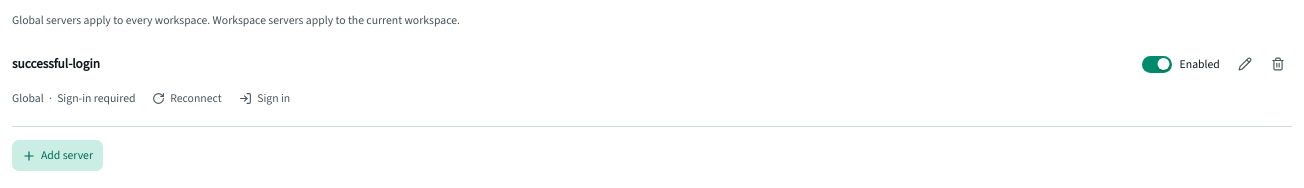
Test: McpSettingsPanel OAuth and stale responses › closes the sign-in panel on start success before refreshing connection status
This screenshot has width=1304, height=188.
Click the button "Sign in" at (265, 99), box [232,85,297,113]
Wait 1000 ms
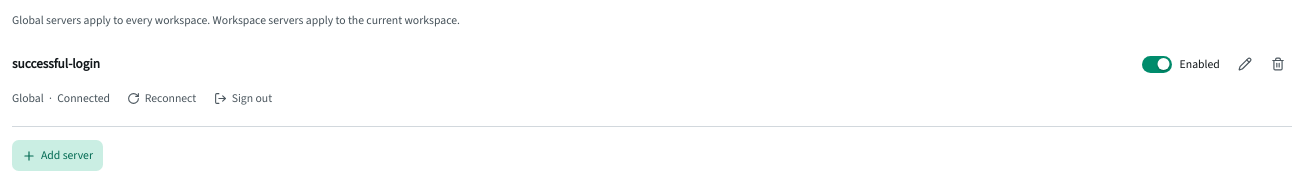
Expected: the text "Connected" is shown, [49,90,110,108]
